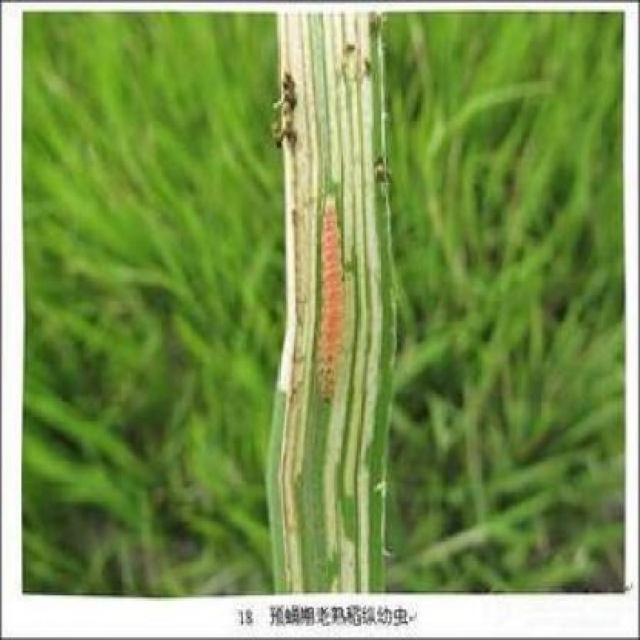leaf-folder: (308, 176, 352, 410)
